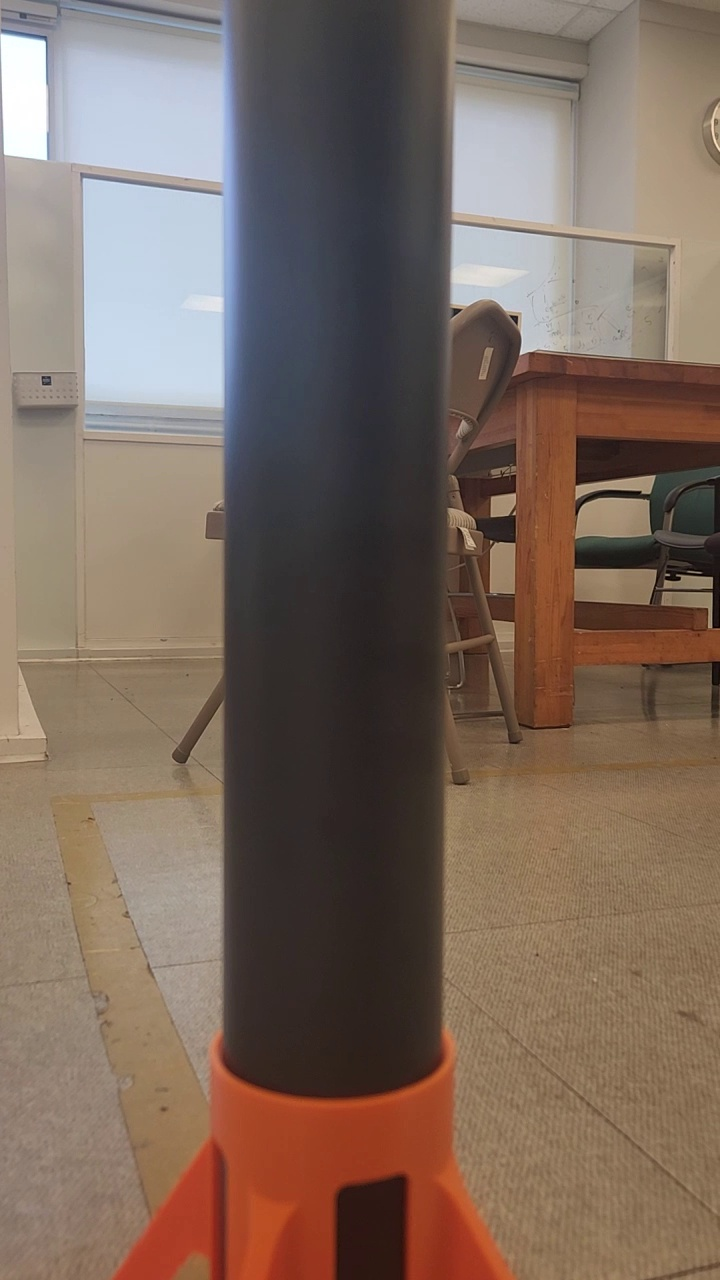pole: (212, 0, 460, 1052)
